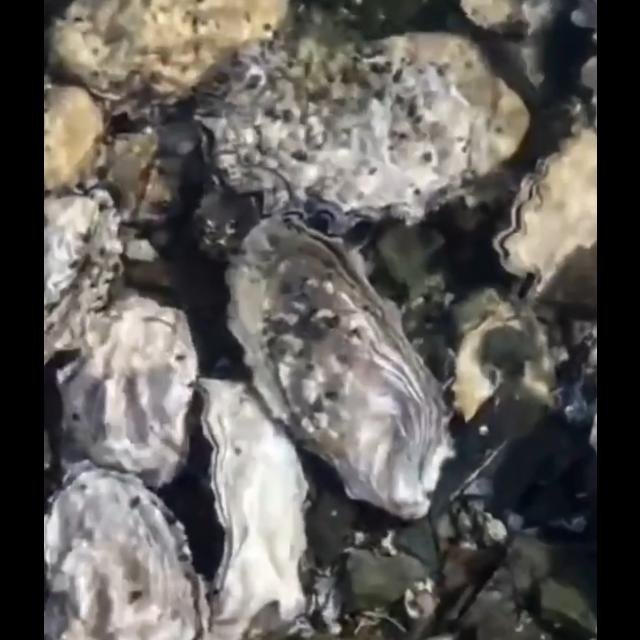Oyster-Closed: (191, 375, 307, 640), (49, 0, 291, 120), (55, 294, 198, 496), (42, 184, 121, 366), (43, 84, 105, 190)
Oyster-Open: (189, 26, 531, 238), (224, 212, 456, 520), (42, 458, 208, 640), (491, 118, 597, 312)
